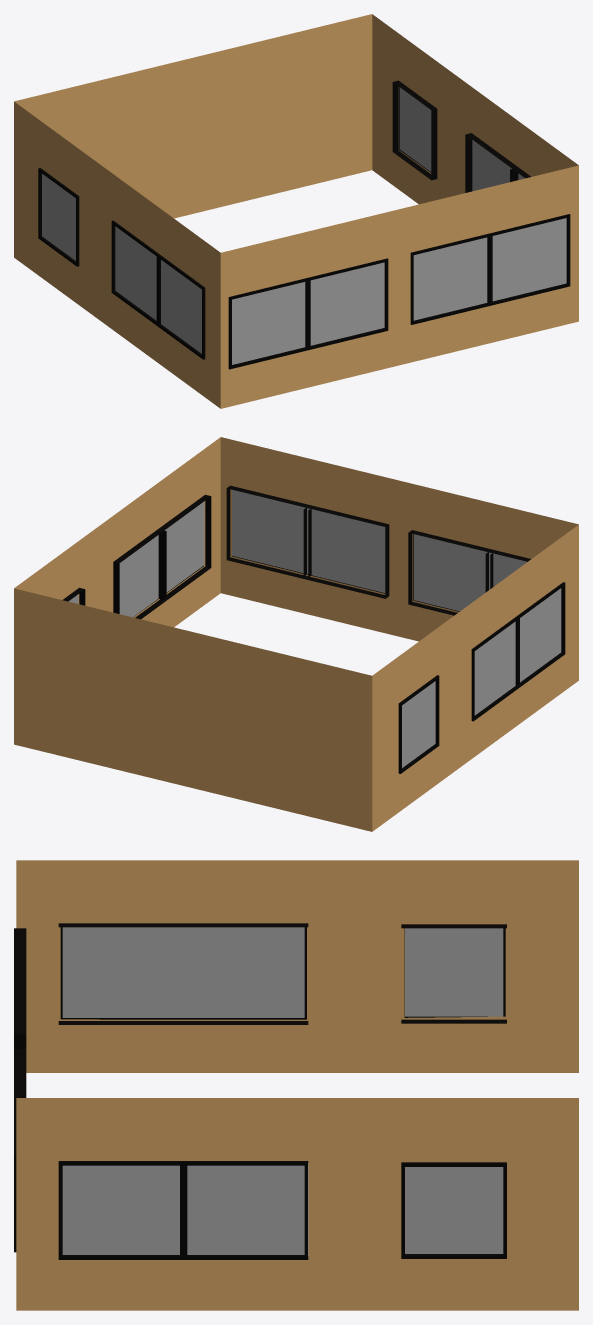
File: Prop_HouseMiddle_03.FBX
3 views of the same model, one above another, from view 1: azimuth 30°, elevation 25°; view 2: azimuth 150°, elevation 25°; view 3: azimuth 270°, elevation 25° (orthographic). The views are drawn at different scales.
Visible parts, largest first — view 1: Prop_HouseMiddle_03; view 2: Prop_HouseMiddle_03; view 3: Prop_HouseMiddle_03.
Boxes of the visible parts, bbox=[...] form: Prop_HouseMiddle_03: bbox=[14, 14, 578, 408]; Prop_HouseMiddle_03: bbox=[14, 437, 578, 831]; Prop_HouseMiddle_03: bbox=[14, 860, 578, 1310].
Bounding box in the file's own units: 239 × 98.43 × 237.
